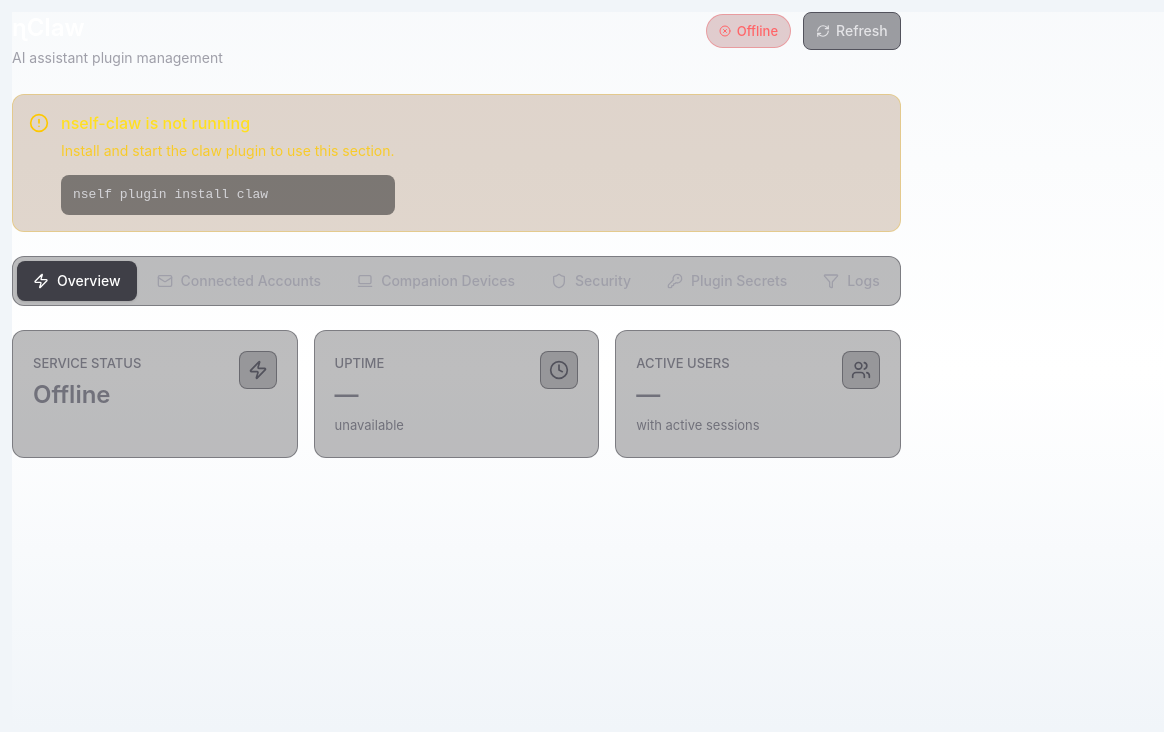
Test case: NClawPage › Companion Devices section shows Phase 224 notice
What coordinates should you click on to do the following:
click the button "Companion Devices"
I would click on:
 (436, 281)
Its box is [341,261,531,301].
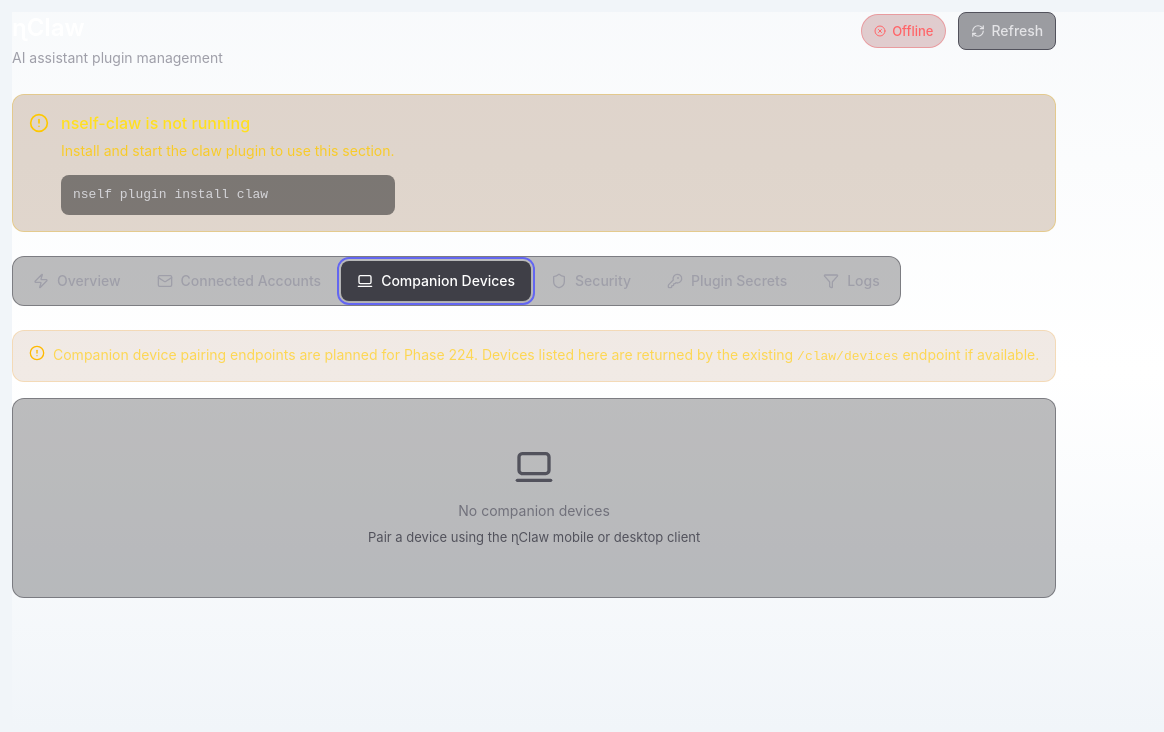
Check: the text "Phase 224" is shown, box [53,346,797,363]
